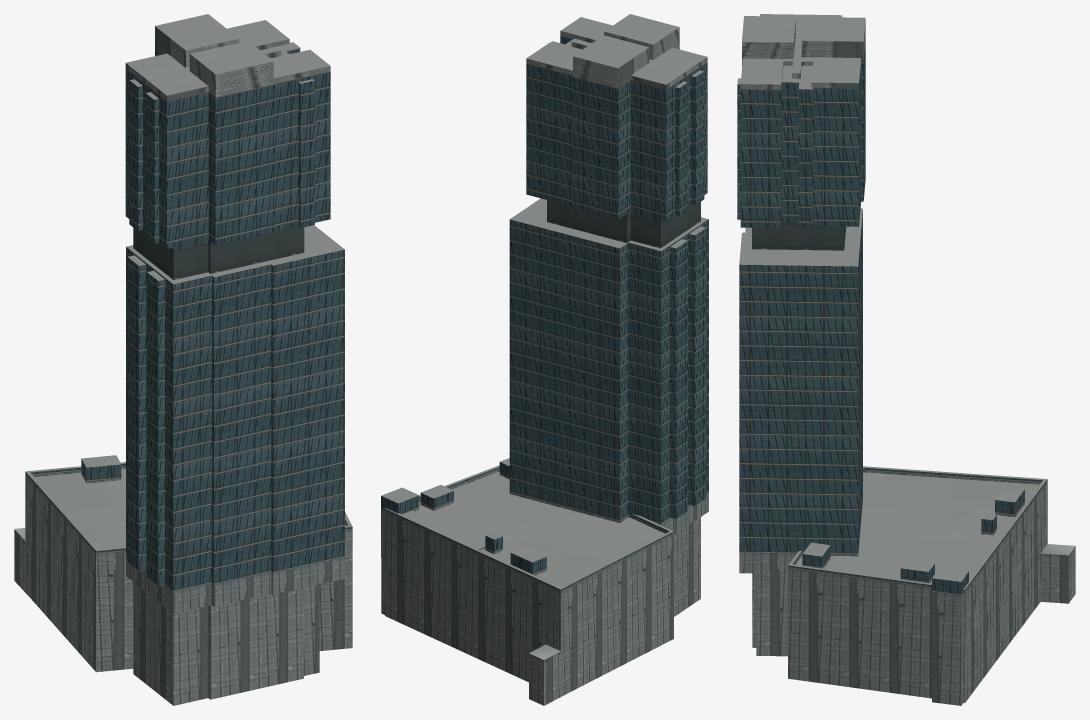
3 renders of one model, left to right at view 1: azimuth 30°, elevation 25°; view 2: azimuth 150°, elevation 25°; view 3: azimuth 270°, elevation 25°, orthographic. The views are drawn at different scales.
Visible parts, largest first — view 1: Midtown Bay recessed residential bays, Midtown Bay podium and crown; view 2: Midtown Bay recessed residential bays, Midtown Bay podium and crown; view 3: Midtown Bay podium and crown, Midtown Bay recessed residential bays.
Part boxes in pixels (x1,y1,x2,y2): Midtown Bay recessed residential bays: (25, 48, 352, 592); Midtown Bay podium and crown: (14, 14, 352, 705); Midtown Bay recessed residential bays: (381, 35, 708, 592); Midtown Bay podium and crown: (381, 14, 708, 705); Midtown Bay podium and crown: (737, 14, 1075, 705); Midtown Bay recessed residential bays: (737, 42, 1047, 595).
Size of the model in its own units: 60.3 by 131 by 68.11.
Materials: 2 (2 with a texture image).
